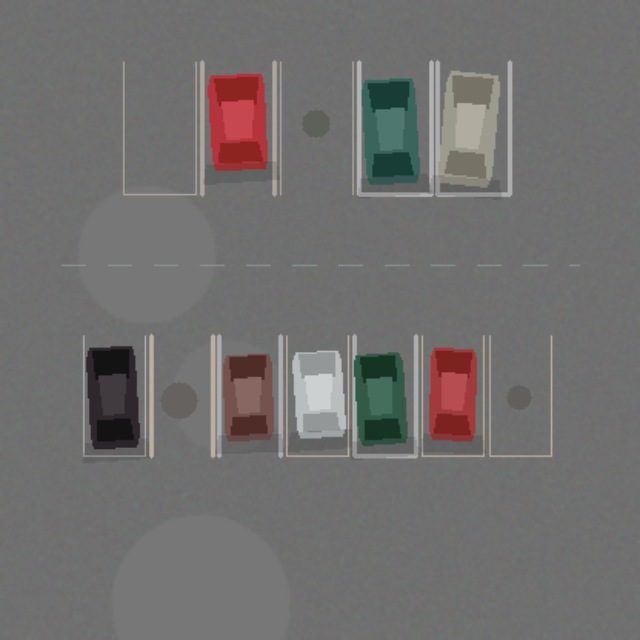space-empty: (123, 62, 195, 194), (280, 62, 352, 194), (489, 335, 551, 455), (151, 335, 212, 455)
space-occupied: (358, 62, 431, 194), (202, 62, 274, 194), (437, 62, 509, 194), (83, 335, 145, 455), (218, 335, 280, 455), (286, 335, 348, 455), (354, 335, 415, 455), (422, 335, 483, 455)
